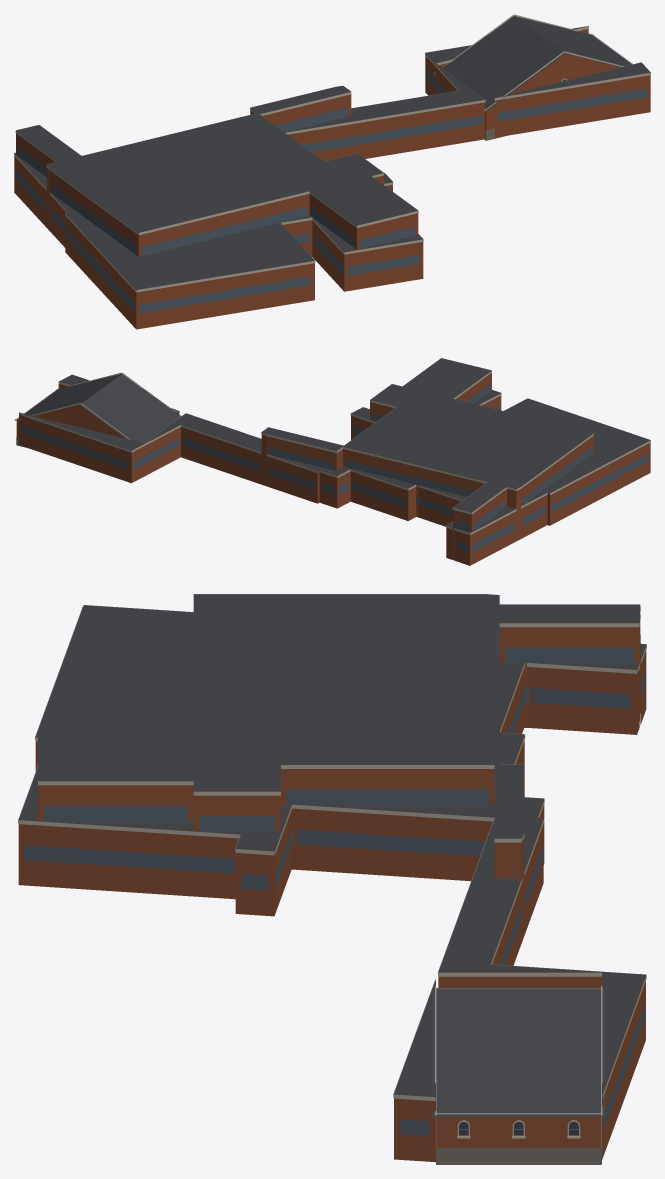
Rendered from geyer-springs-church-of-christ.glb.
The picture shows the model from 3 angles, top to bottom: view 1: azimuth 30°, elevation 25°; view 2: azimuth 150°, elevation 25°; view 3: azimuth 270°, elevation 25°; orthographic projection. The views are drawn at different scales.
Visible parts, largest first — view 1: geyer_springs_church_of_christ; view 2: geyer_springs_church_of_christ; view 3: geyer_springs_church_of_christ.
Boxes of the visible parts, <box> form: geyer_springs_church_of_christ: <box>14,14,650,329</box>; geyer_springs_church_of_christ: <box>14,358,650,565</box>; geyer_springs_church_of_christ: <box>18,594,646,1164</box>.
Bounding box in the file's own units: 120 × 13.26 × 64.73.
